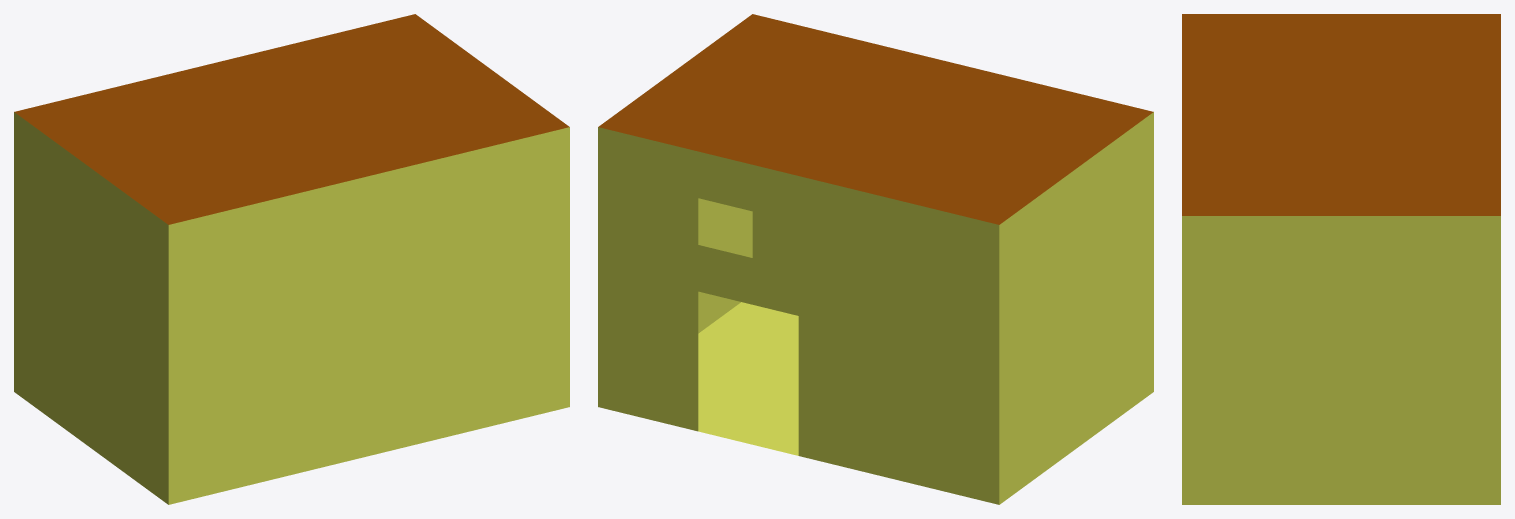
Rendered from yellow.gltf.
3 views of the same model, side by side, from view 1: azimuth 30°, elevation 25°; view 2: azimuth 150°, elevation 25°; view 3: azimuth 270°, elevation 25° (orthographic). The views are drawn at different scales.
Visible parts, largest first — view 1: Cube; view 2: Cube; view 3: Cube.
Part boxes in pixels (x1,y1,x2,y2): Cube: (14, 14, 569, 504); Cube: (598, 14, 1153, 504); Cube: (1182, 14, 1500, 504).
Size of the model in its own units: 6 by 4 by 4.
